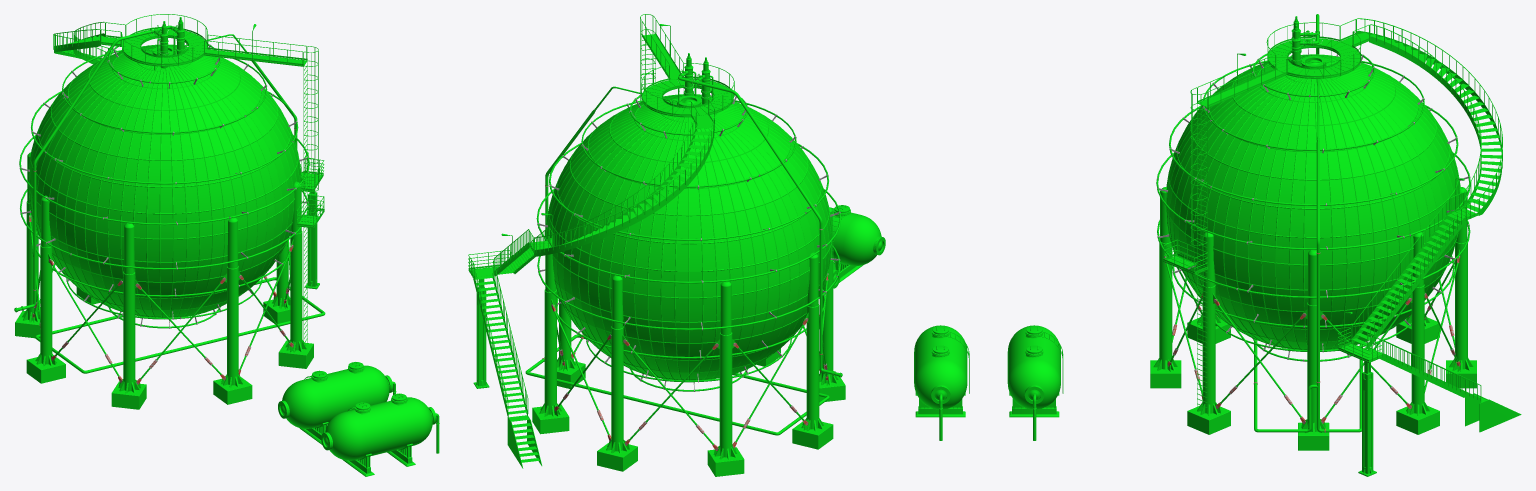
The picture shows the model from 3 angles, left to right: view 1: azimuth 30°, elevation 25°; view 2: azimuth 150°, elevation 25°; view 3: azimuth 270°, elevation 25°; orthographic projection. The views are drawn at different scales.
Parts seen in each view (by area): view 1: SM_Gas_Storage, SM_Gas_Tank001, SM_Gas_Tank; view 2: SM_Gas_Storage, SM_Gas_Tank001; view 3: SM_Gas_Storage, SM_Gas_Tank, SM_Gas_Tank001.
Part boxes in pixels (x1=…): SM_Gas_Storage: x1=14, y1=14, x2=325, y2=409; SM_Gas_Tank001: x1=321, y1=393, x2=439, y2=476; SM_Gas_Tank: x1=278, y1=362, x2=396, y2=444; SM_Gas_Storage: x1=468, y1=14, x2=845, y2=476; SM_Gas_Tank001: x1=830, y1=205, x2=885, y2=282; SM_Gas_Storage: x1=1150, y1=14, x2=1521, y2=476; SM_Gas_Tank: x1=1007, y1=325, x2=1063, y2=440; SM_Gas_Tank001: x1=914, y1=325, x2=969, y2=440.
Bounding box in the file's own units: 2276 × 2210 × 3321.
